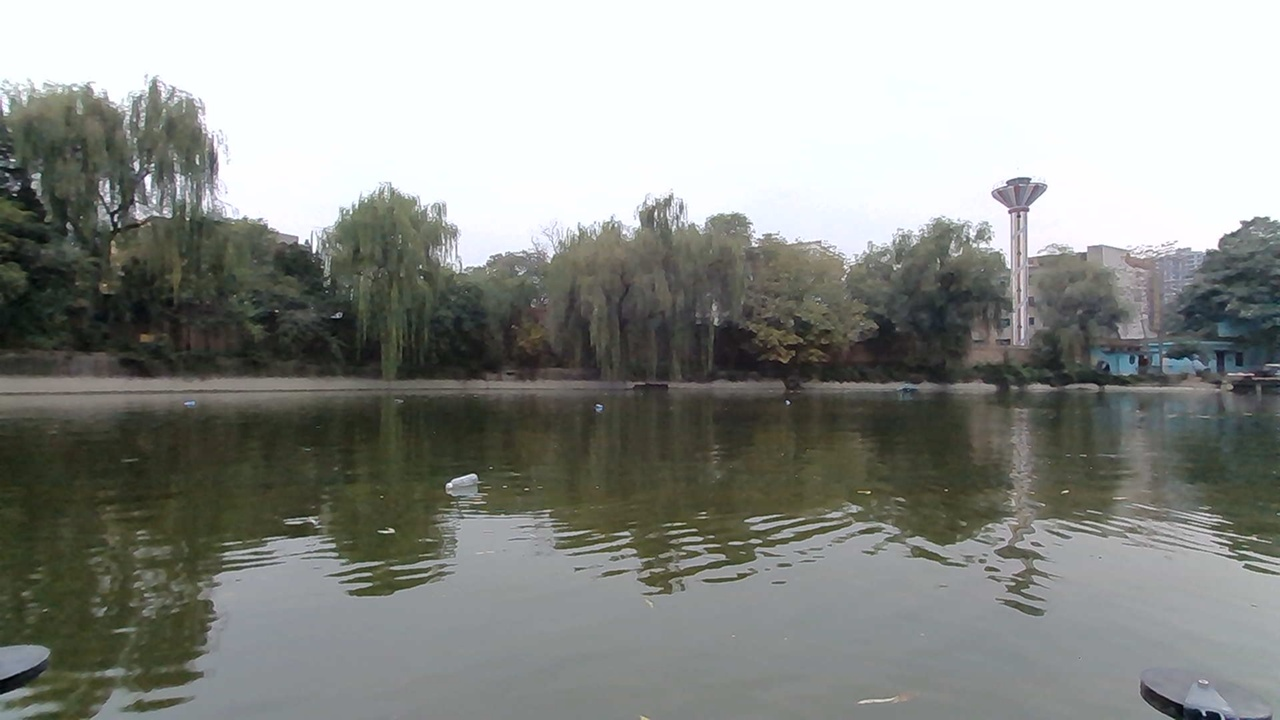bottle: (435, 472, 494, 501), (589, 400, 620, 418)
